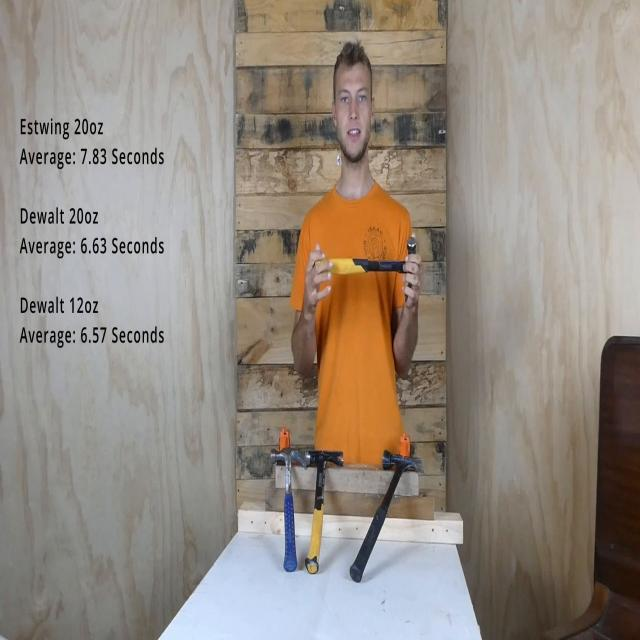hammer: (350, 453, 422, 583), (320, 238, 418, 300), (305, 452, 345, 574), (270, 445, 307, 576)
